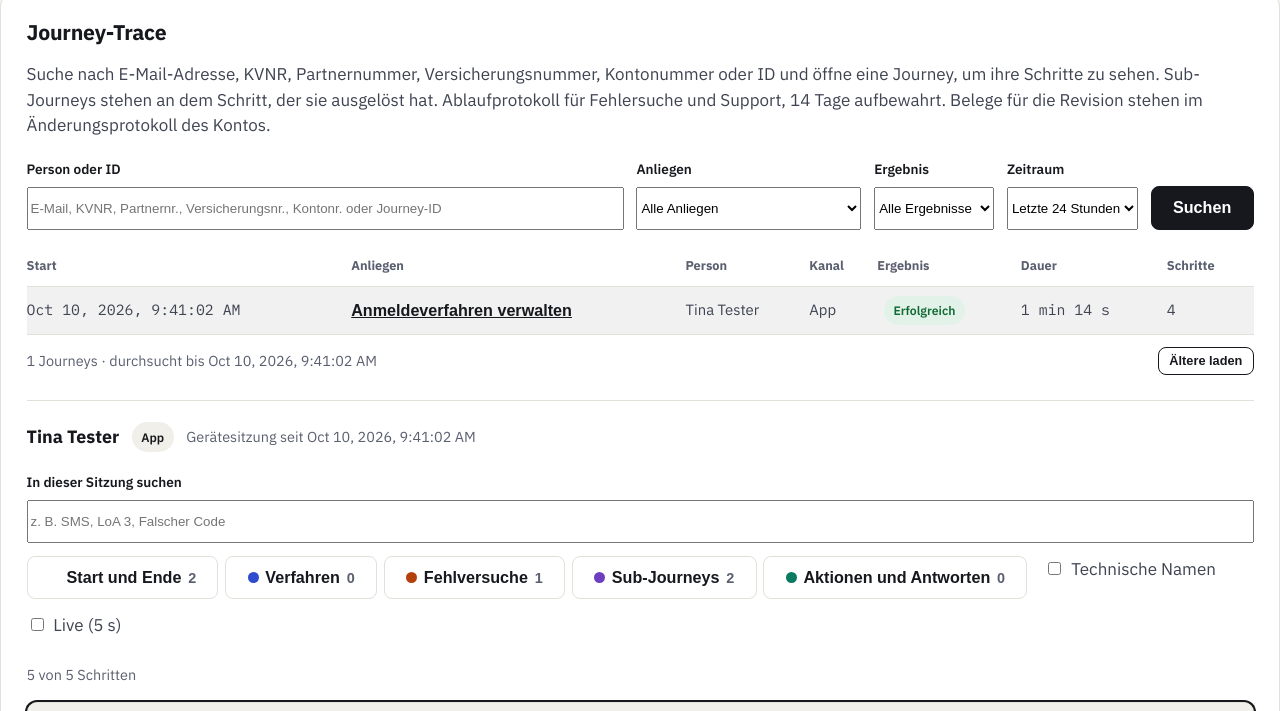
Test: JourneyTraceView › continues an incomplete search from where it stopped
(page scrolled)
Click the button "Ältere laden" at (1206, 361), box [1158,347,1254,375]
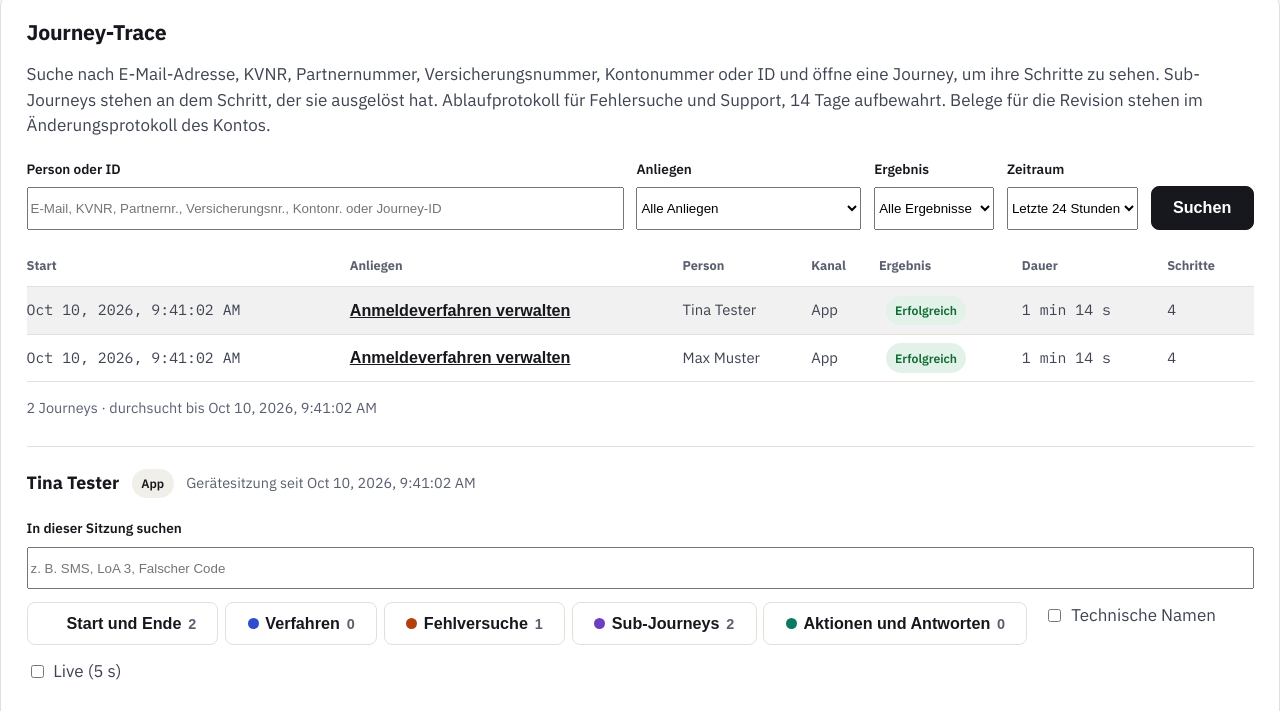
expect the text "Max Muster" is shown: met, box [683,334,811,381]
expect the button "Ältere laden" is gone: met
